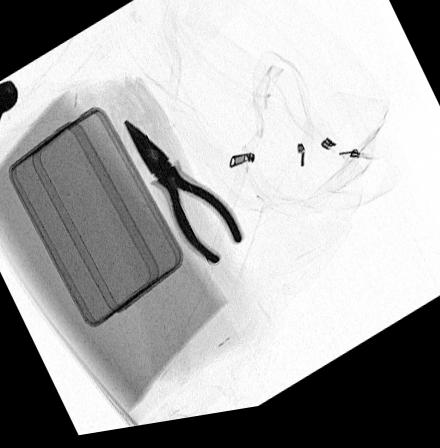Pliers: (120, 120, 245, 276), (0, 79, 19, 126)
